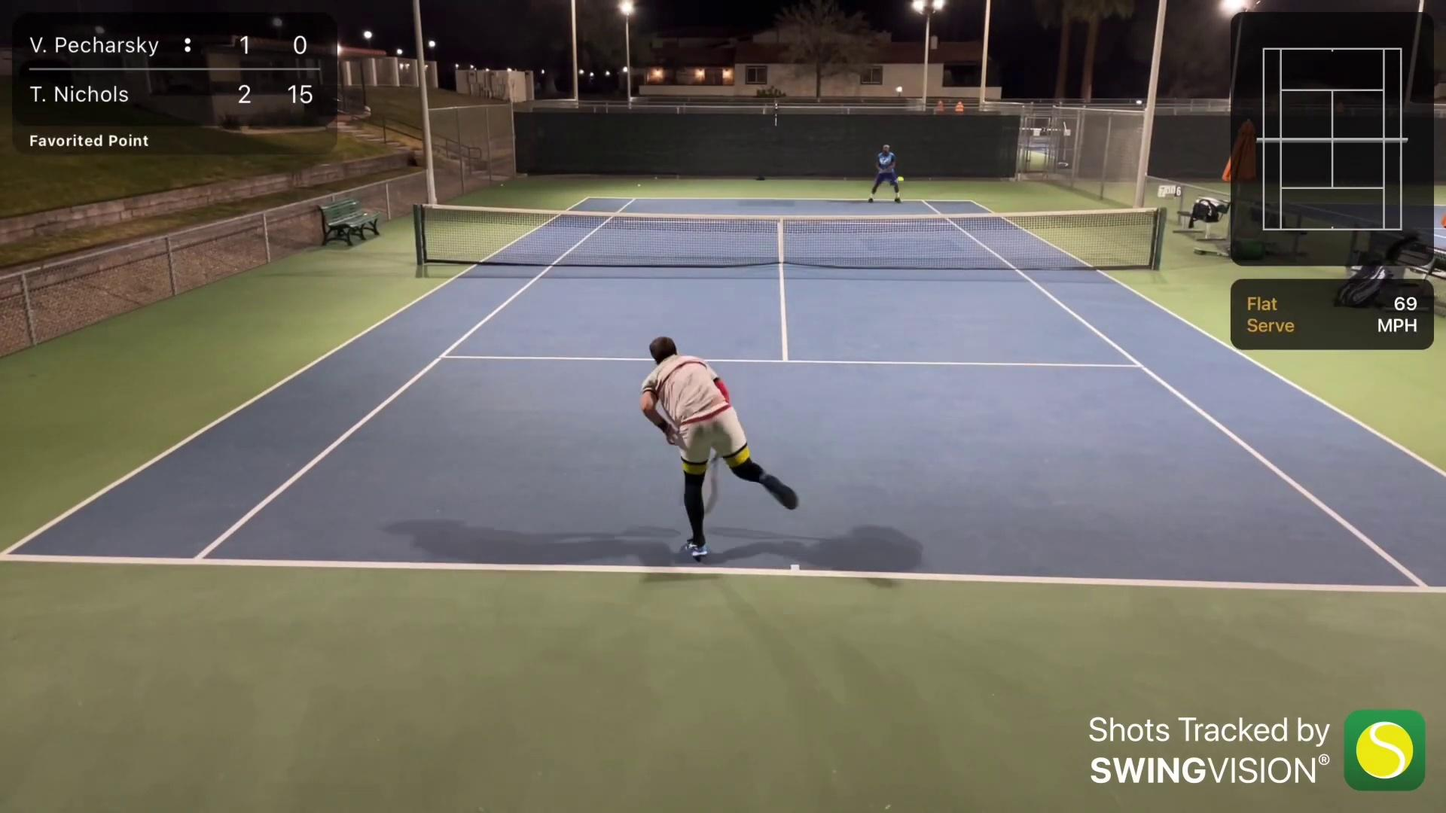ball: (900, 177, 905, 182)
